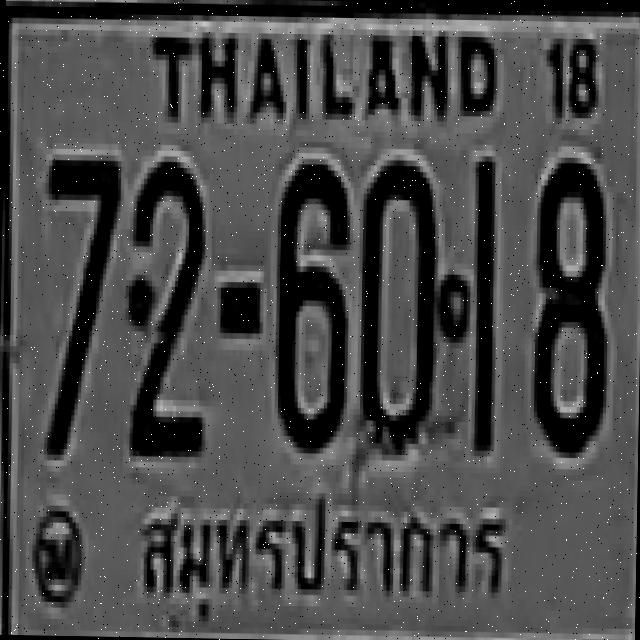0: (356, 153, 436, 450)
1: (470, 156, 496, 450)
2: (124, 156, 205, 452)
6: (274, 158, 348, 448)
7: (41, 154, 118, 455)
8: (530, 154, 607, 450)
SamutPrakan: (137, 484, 513, 622)
